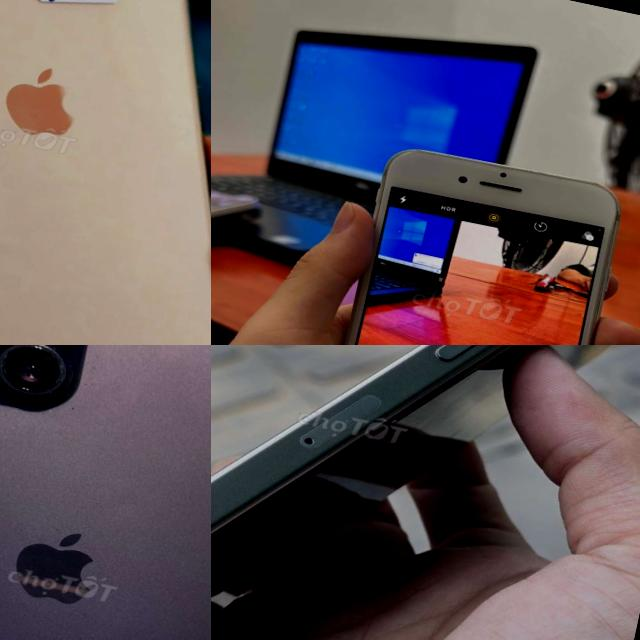gen_11: (0, 0, 211, 345)
gen_15: (0, 345, 211, 640)
gen_16: (211, 345, 517, 599)
gen_7_8: (289, 123, 638, 345)
scratch: (0, 345, 87, 409), (516, 164, 599, 190), (373, 162, 391, 178), (609, 208, 623, 222)
